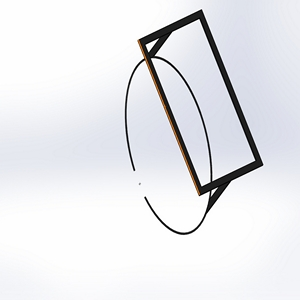circle: (121, 7, 264, 237)
